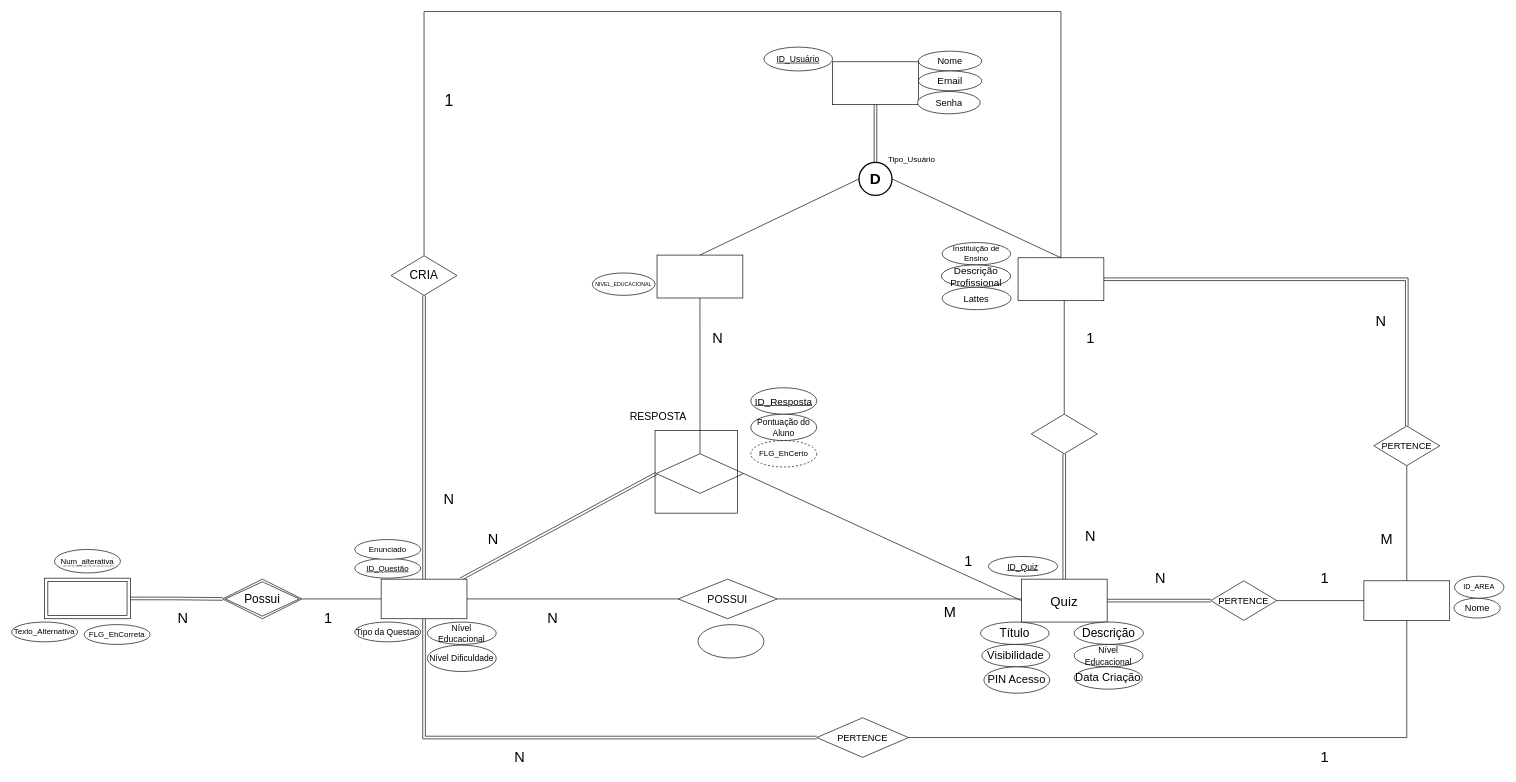
Image size: 1516x782. Some labels were removed from this diagram. Each missing label, with the centre of its shape:
"ALTERNATIVA" goes at (x=87, y=598).
"ALUNO" goes at (x=699, y=276).
"AREA" goes at (x=1406, y=600).
"MONTA" goes at (x=1064, y=433).
"Pontuação da Questão" goes at (x=730, y=641).
"PROFESSOR" goes at (x=1060, y=279).
"Questão" goes at (x=423, y=598).
"RESPONDE" goes at (x=700, y=473).
"Usuários" goes at (x=875, y=83).
